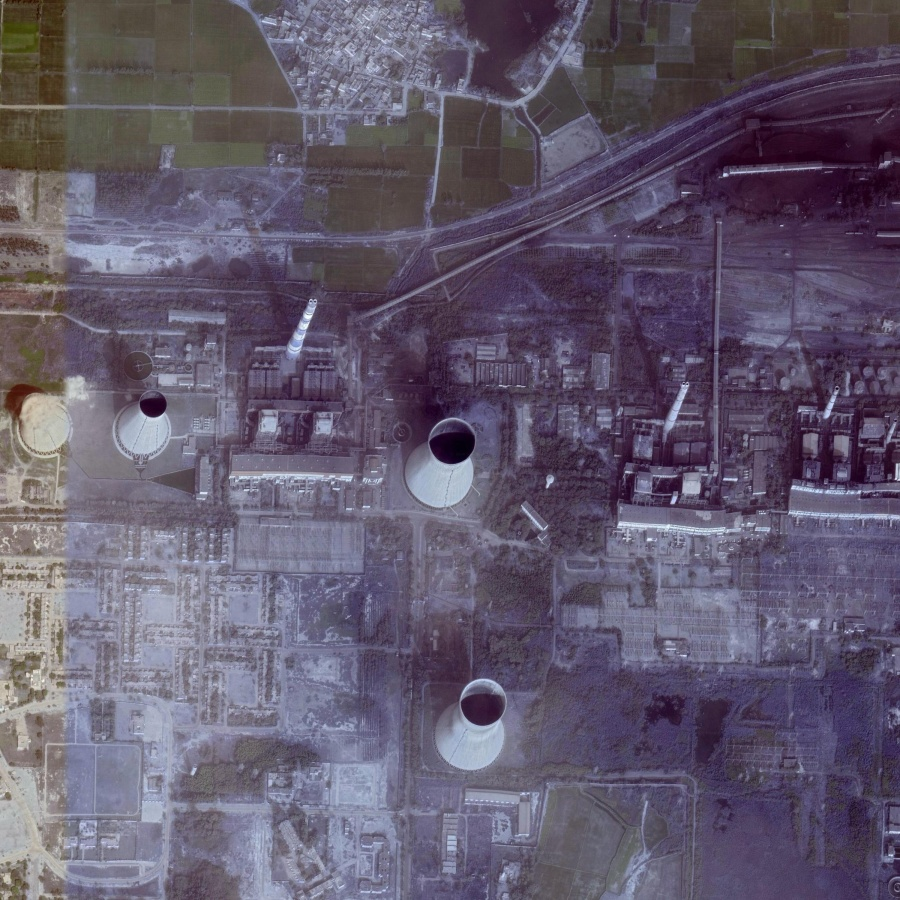PowerPlant: (8, 221, 484, 517)
